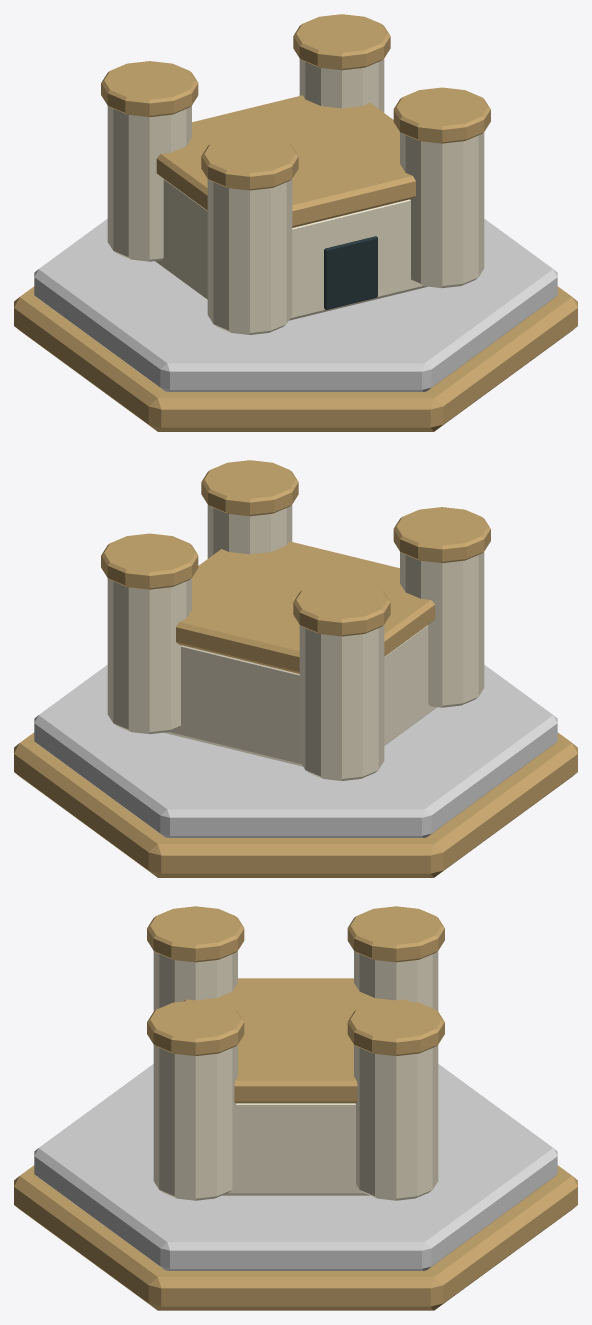
The model's file is center.glb.
The picture shows the model from 3 angles, top to bottom: view 1: azimuth 30°, elevation 25°; view 2: azimuth 150°, elevation 25°; view 3: azimuth 270°, elevation 25°; orthographic projection.
Visible parts, largest first — view 1: Center; view 2: Center; view 3: Center.
Part boxes in pixels (bbox=[...]): Center: bbox=[14, 14, 577, 431]; Center: bbox=[14, 460, 577, 877]; Center: bbox=[14, 906, 577, 1310].
Size of the model in its own units: 0.8792 by 0.4638 by 1.
